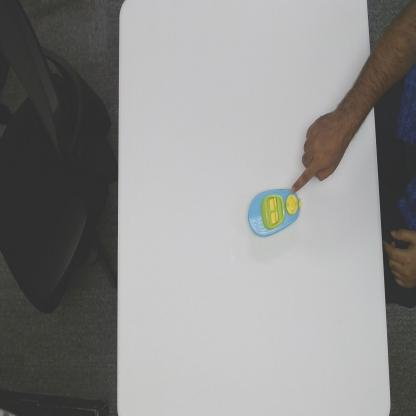Arm: (338, 54, 373, 128)
Boat: (247, 187, 302, 239)
Hand: (289, 107, 352, 195)
